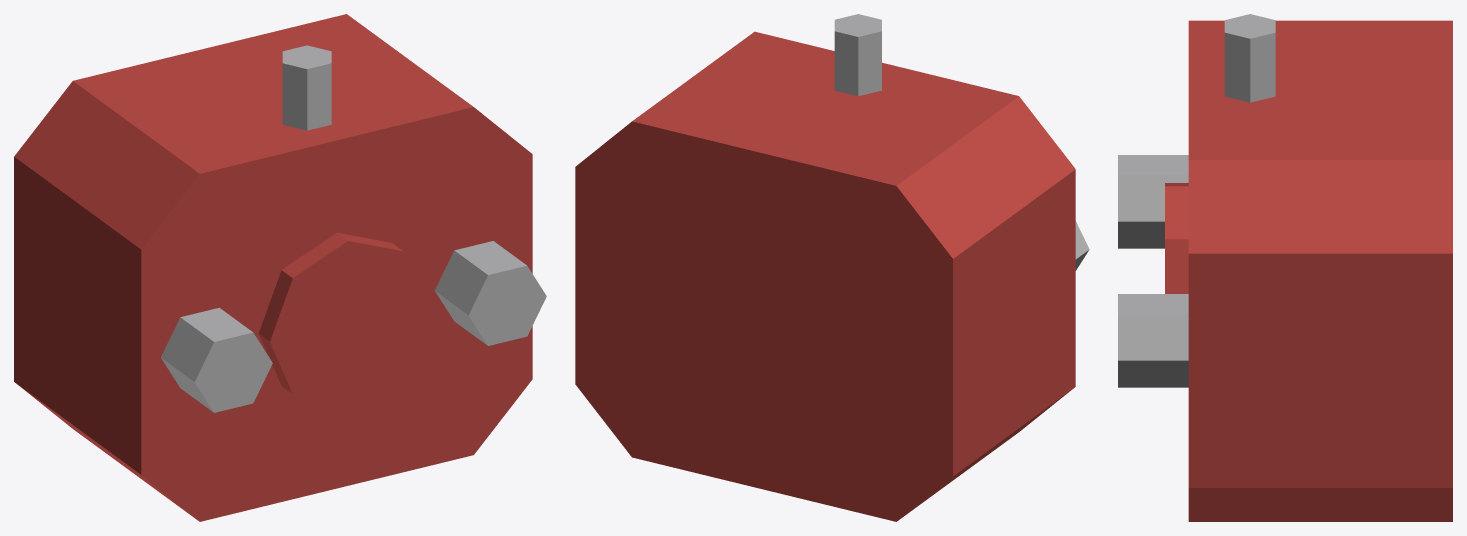
Rendered from single_piston_lod1.glb.
3 renders of one model, left to right at view 1: azimuth 30°, elevation 25°; view 2: azimuth 150°, elevation 25°; view 3: azimuth 270°, elevation 25°, orthographic. The views are drawn at different scales.
Parts seen in each view (by area): view 1: single_piston_lod1; view 2: single_piston_lod1; view 3: single_piston_lod1.
Boxes of the visible parts, x1,y1,x2,y2 form: single_piston_lod1: [14, 14, 546, 521]; single_piston_lod1: [575, 14, 1089, 521]; single_piston_lod1: [1118, 14, 1452, 521].
Bounding box in the file's own units: 0.08 × 0.08 × 0.057.
